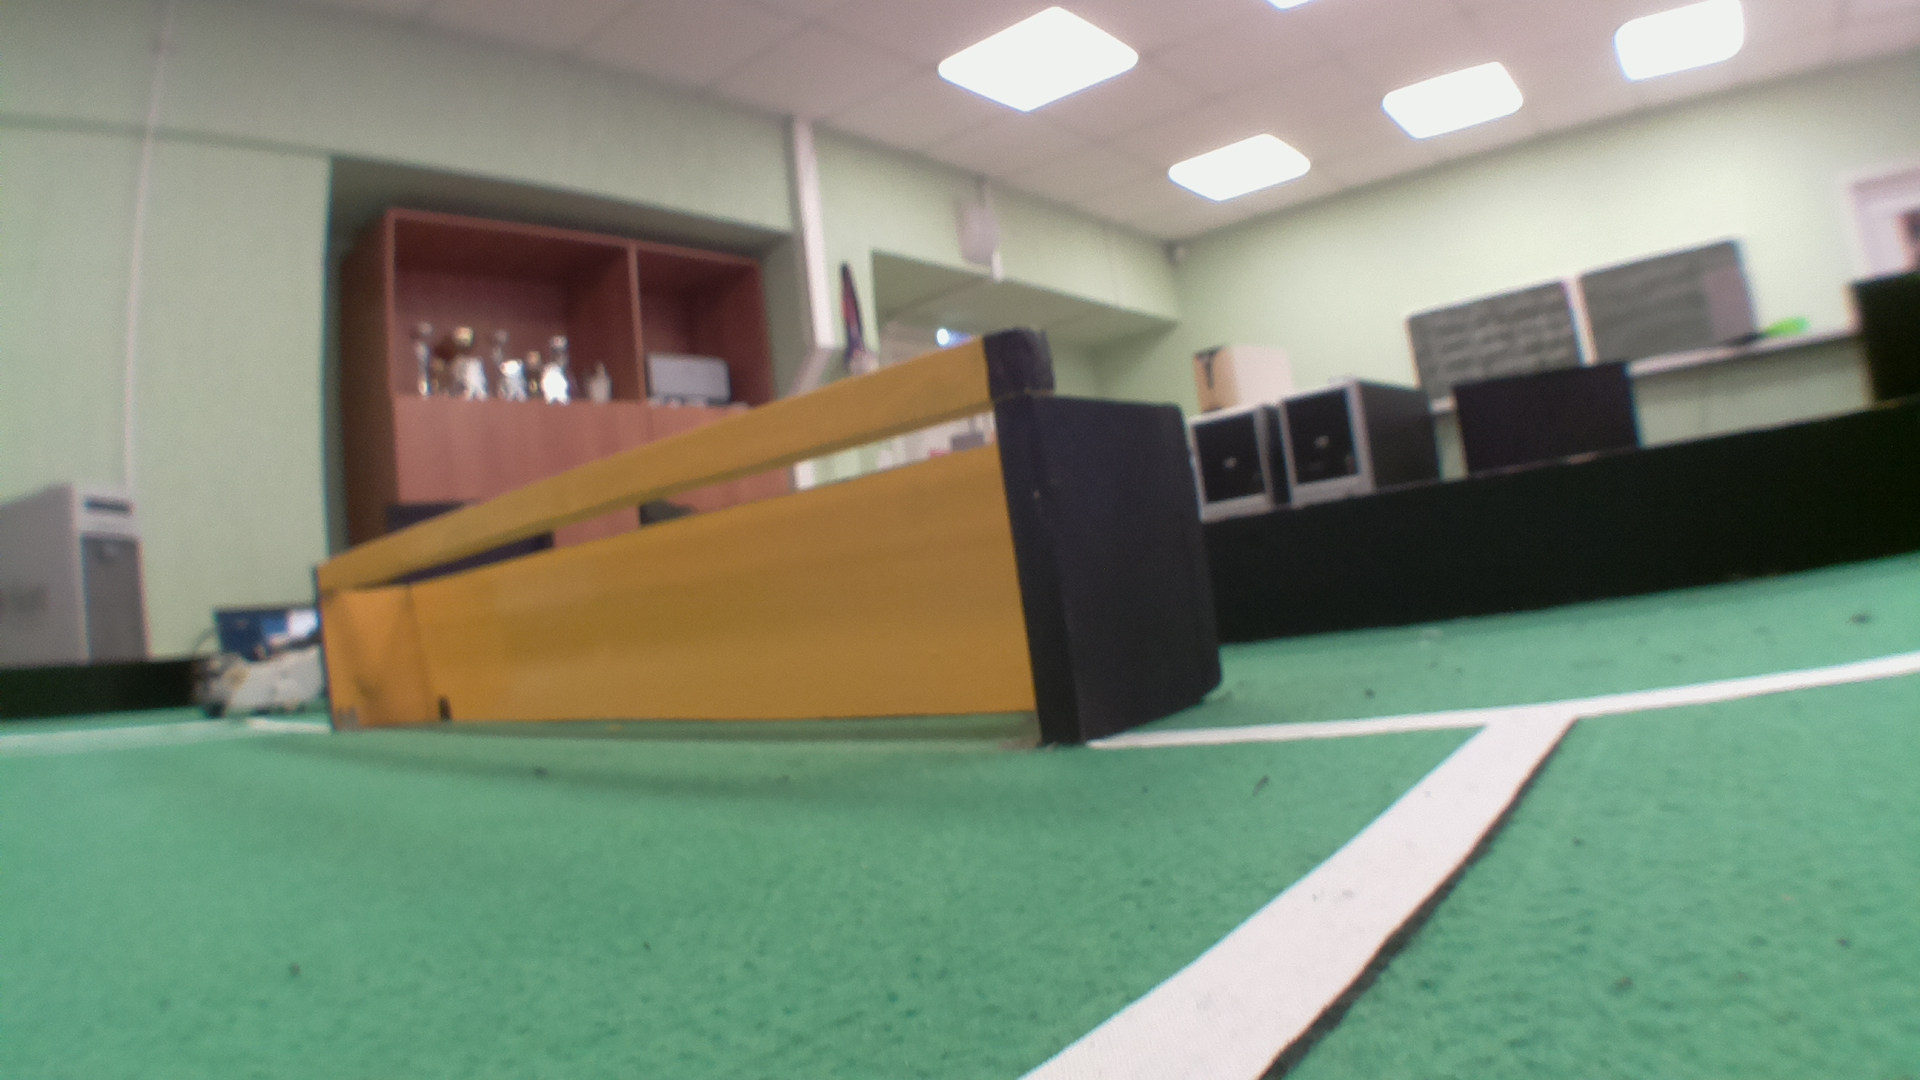YellowGoal: (322, 368, 1030, 729)
